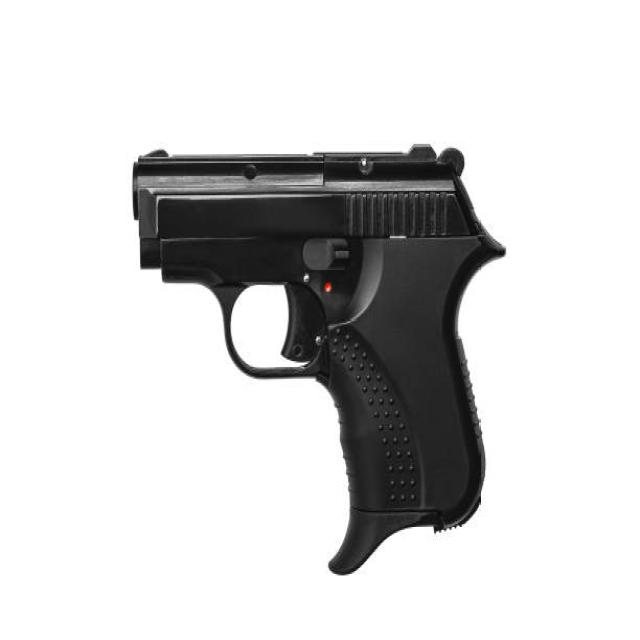pistol: (124, 136, 512, 580)
